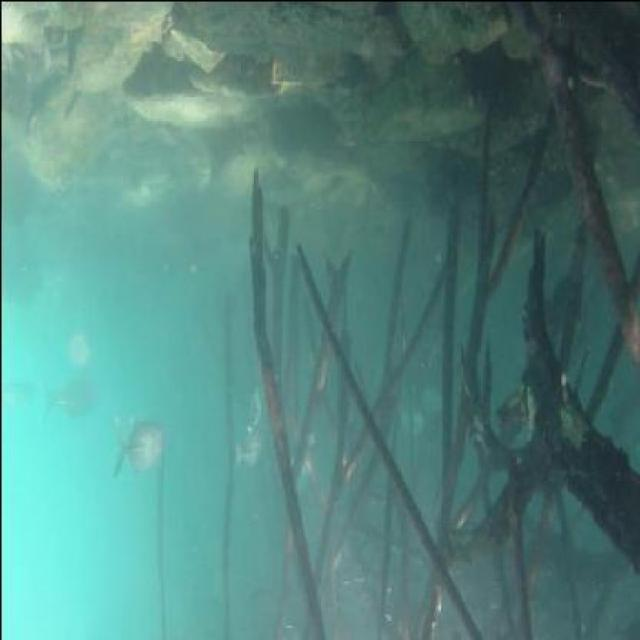Caranx_sexfasciatus_juvenile: (93, 402, 165, 480), (43, 361, 99, 422), (236, 426, 262, 479), (248, 371, 269, 435)
